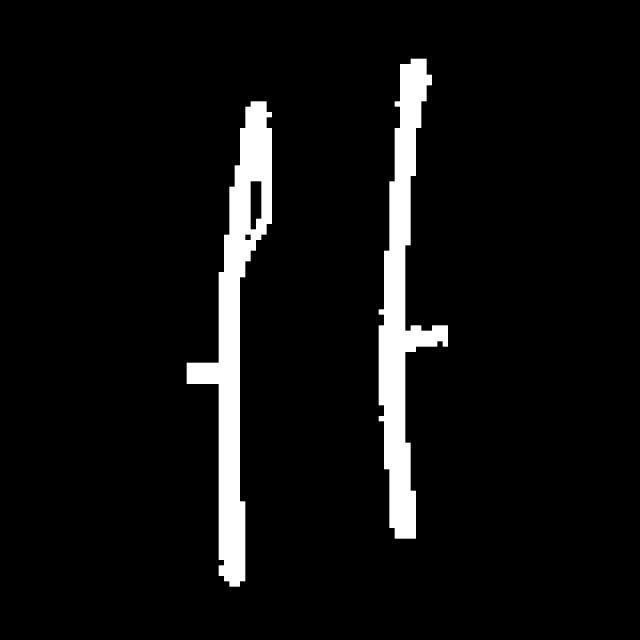capacitor: (206, 50, 432, 596)
